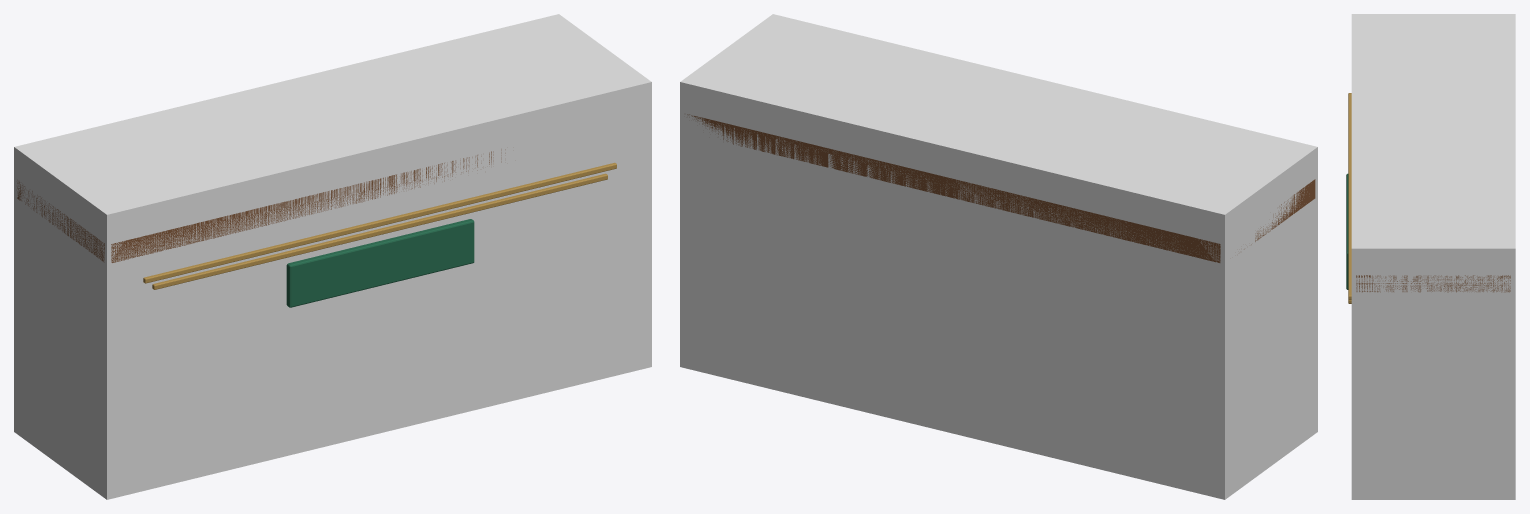
The model's file is back-counter_luxury.glb.
The picture shows the model from 3 angles, left to right: view 1: azimuth 30°, elevation 25°; view 2: azimuth 150°, elevation 25°; view 3: azimuth 270°, elevation 25°; orthographic projection. The views are drawn at different scales.
Parts seen in each view (by area): view 1: COL_back-counter, MESH_ServiceScreen, MESH_Worktop, MESH_TierTrim_01, MESH_TierTrim_02; view 2: COL_back-counter, MESH_Worktop; view 3: COL_back-counter, MESH_Worktop, MESH_TierTrim_01, MESH_ServiceScreen.
Part boxes in pixels (x1=…): COL_back-counter: x1=14, y1=14, x2=651, y2=499; MESH_ServiceScreen: x1=286, y1=219, x2=474, y2=307; MESH_Worktop: x1=17, y1=149, x2=505, y2=262; MESH_TierTrim_01: x1=143, y1=162, x2=616, y2=283; MESH_TierTrim_02: x1=152, y1=173, x2=607, y2=289; COL_back-counter: x1=680, y1=14, x2=1317, y2=499; MESH_Worktop: x1=687, y1=114, x2=1315, y2=262; COL_back-counter: x1=1351, y1=14, x2=1515, y2=499; MESH_Worktop: x1=1356, y1=275, x2=1510, y2=292; MESH_TierTrim_01: x1=1348, y1=93, x2=1351, y2=299; MESH_ServiceScreen: x1=1346, y1=173, x2=1348, y2=289.
Bounding box in the file's own units: 2.1 × 1.05 × 0.6402.
